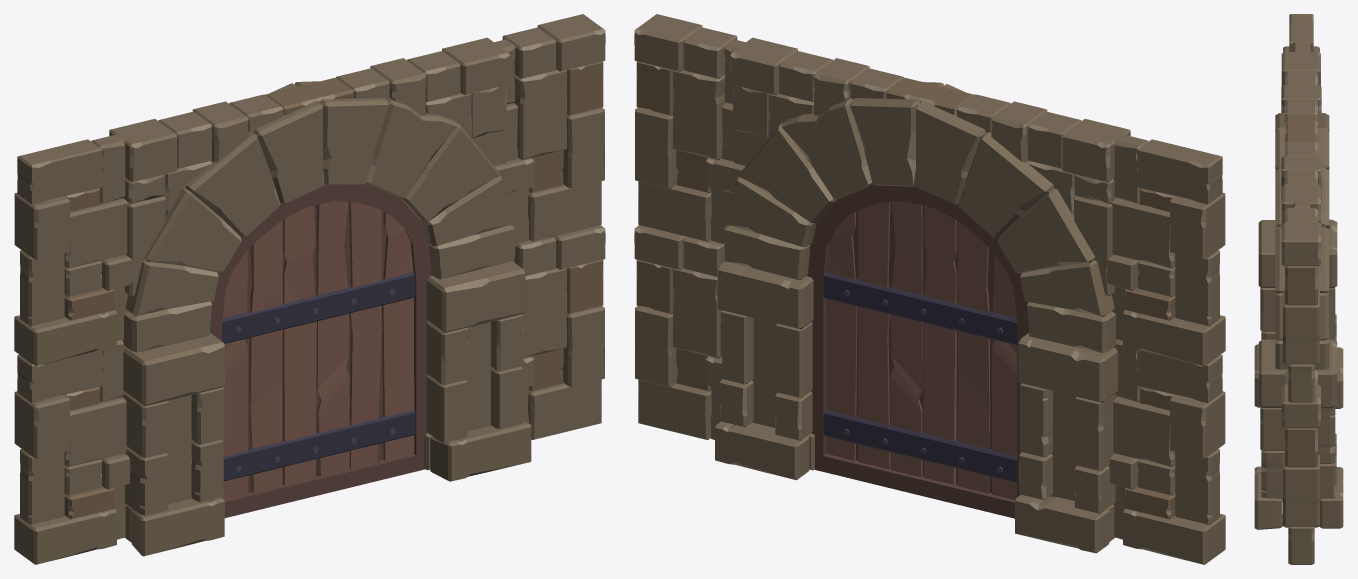
The model's file is Arch_Door_Wide_completely_merged.gltf.
The picture shows the model from 3 angles, left to right: view 1: azimuth 30°, elevation 25°; view 2: azimuth 150°, elevation 25°; view 3: azimuth 270°, elevation 25°; orthographic projection. The views are drawn at different scales.
Parts seen in each view (by area): view 1: Arch_Door; view 2: Arch_Door; view 3: Arch_Door.
Boxes of the visible parts, left/top/right/bottom form: Arch_Door: left=14, top=14, right=605, bottom=564; Arch_Door: left=634, top=14, right=1225, bottom=564; Arch_Door: left=1254, top=14, right=1343, bottom=564.
Bounding box in the file's own units: 6.01 × 4.01 × 0.9926.
1 material, 1 textured.
